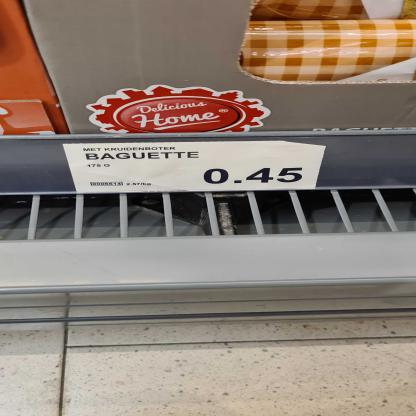prtg: (63, 142, 328, 195)
